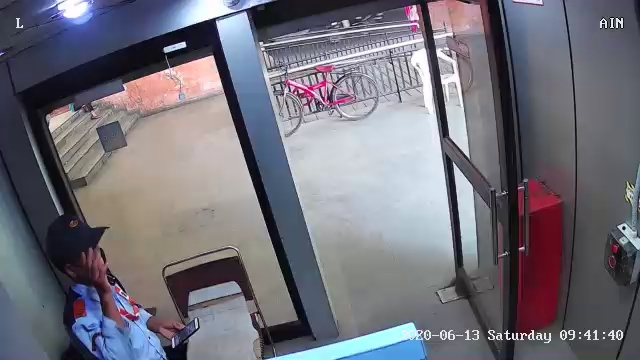open: (405, 6, 563, 355)
